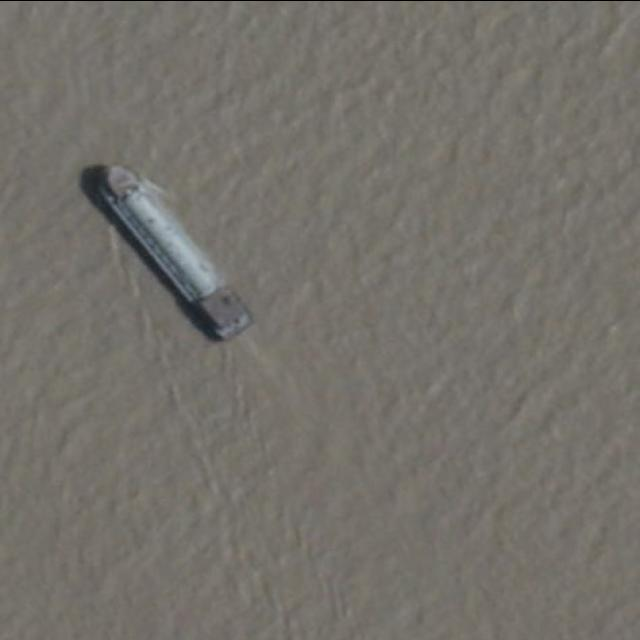ship: (94, 158, 258, 338)
